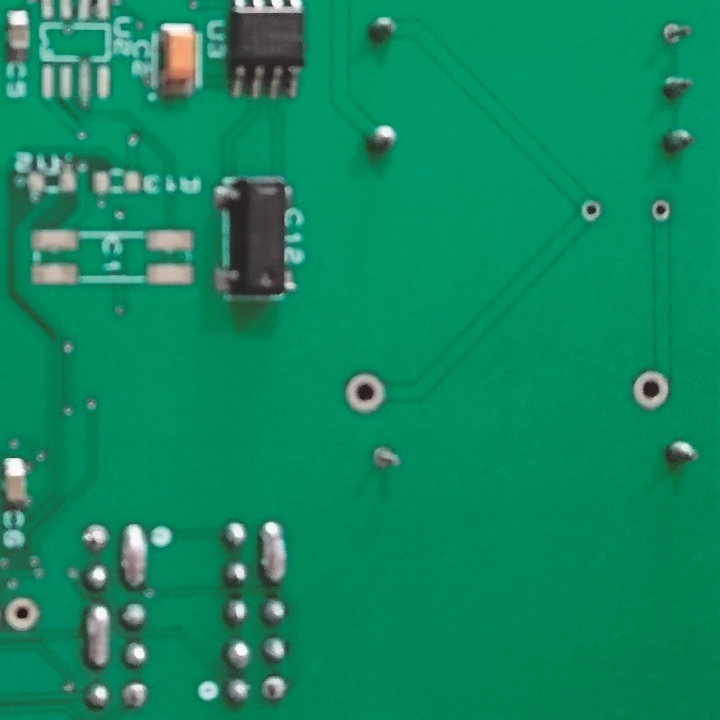F: (344, 369, 387, 420), (630, 367, 670, 412), (4, 595, 42, 636), (370, 440, 401, 473), (118, 679, 152, 709), (80, 520, 110, 554), (257, 674, 290, 704), (661, 20, 692, 46), (581, 198, 603, 223), (650, 198, 671, 224)
P: (257, 519, 288, 584), (120, 523, 150, 588), (82, 603, 111, 669)
